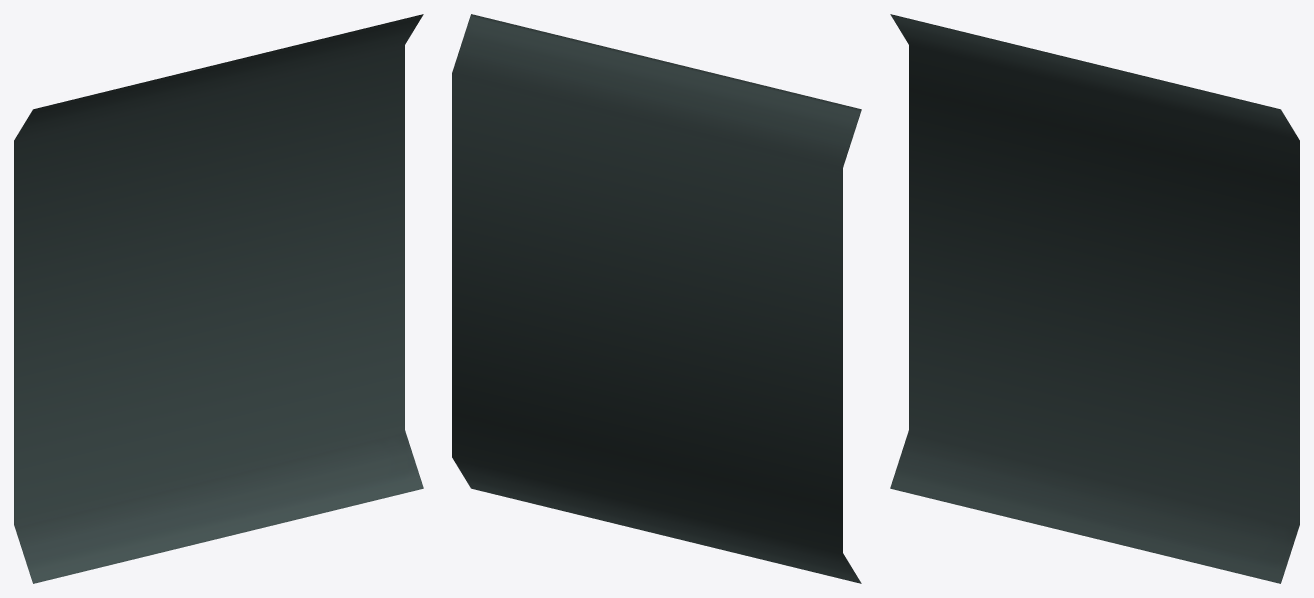
File: Walls_Stright_6.FBX
3 renders of one model, left to right at view 1: azimuth 30°, elevation 25°; view 2: azimuth 150°, elevation 25°; view 3: azimuth 330°, elevation 25°, orthographic.
Parts seen in each view (by area): view 1: Wall_Straight_00; view 2: Wall_Straight_00; view 3: Wall_Straight_00.
Boxes of the visible parts, left/top/right/bottom form: Wall_Straight_00: left=14, top=14, right=423, bottom=583; Wall_Straight_00: left=452, top=14, right=861, bottom=583; Wall_Straight_00: left=890, top=14, right=1299, bottom=583.
Size of the model in its own units: 3.5 by 4.06 by 0.2951.
1 material, 1 textured.
